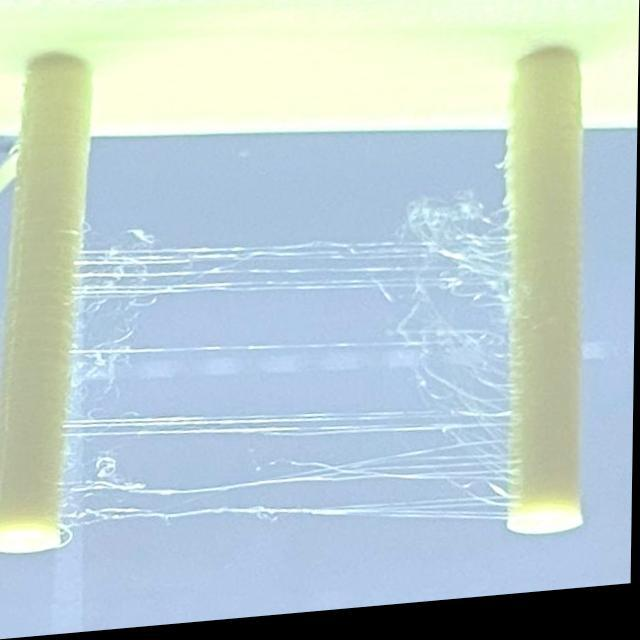stringing: (398, 194, 523, 320), (392, 404, 511, 535), (292, 238, 407, 308), (60, 459, 149, 539), (82, 231, 179, 304), (200, 242, 295, 308), (65, 330, 134, 391), (152, 409, 262, 447), (264, 412, 368, 451), (410, 329, 510, 366), (408, 372, 473, 428), (164, 500, 272, 530), (300, 458, 390, 494), (68, 412, 144, 446), (291, 500, 371, 530)
